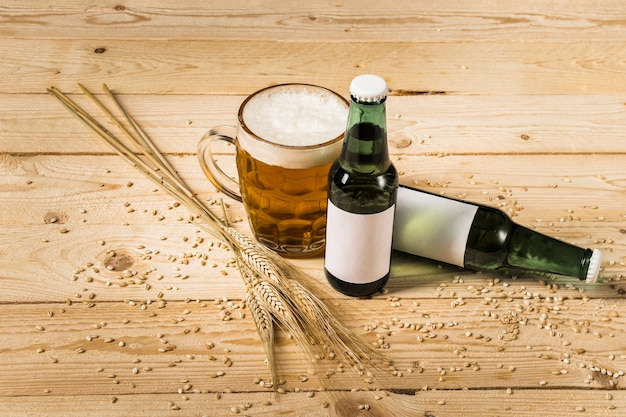alcohol: (194, 81, 360, 257), (392, 182, 603, 285), (324, 75, 401, 299)
